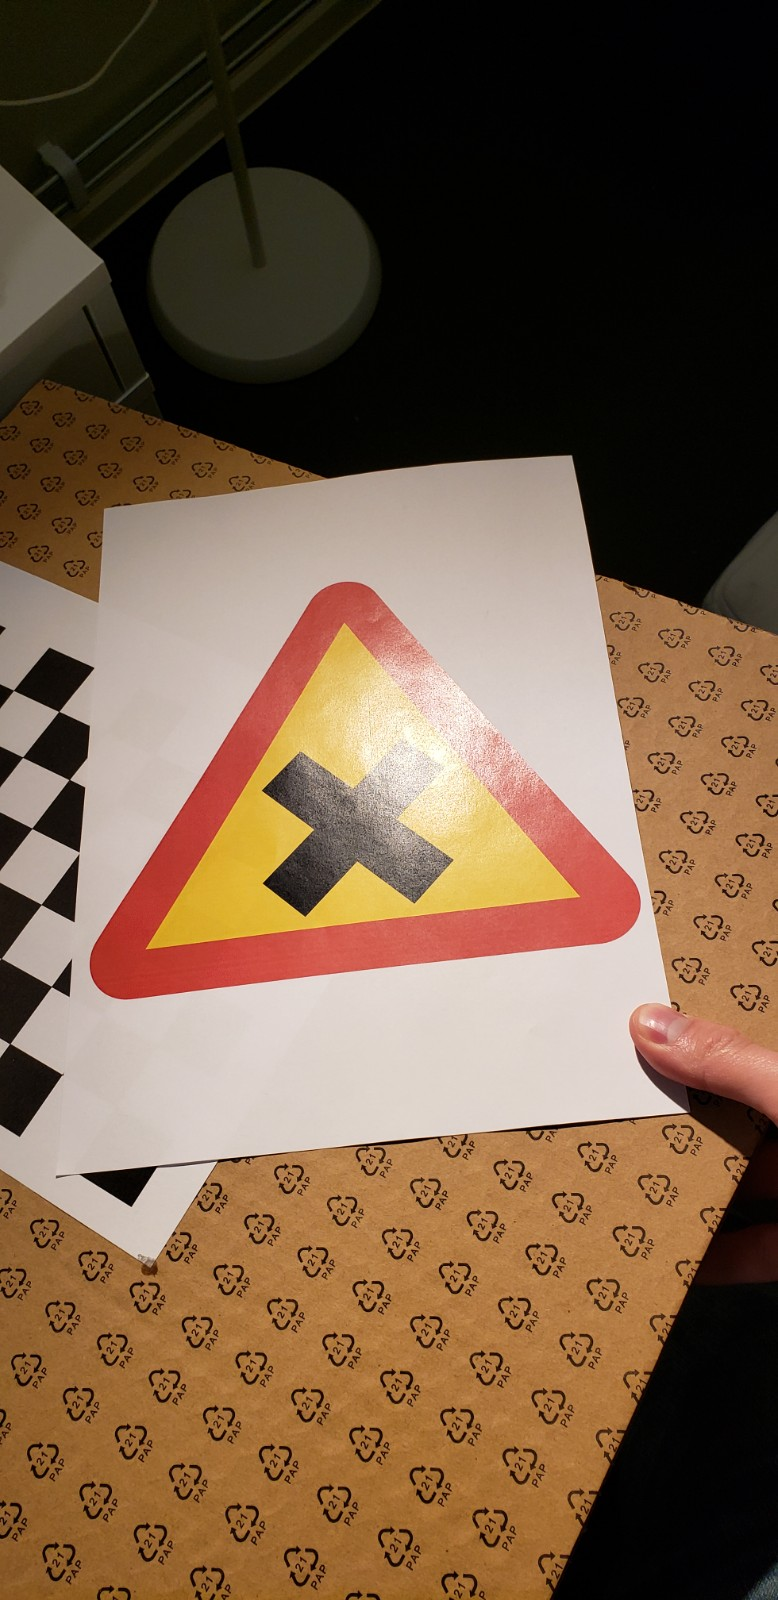junction: (65, 557, 671, 998)
